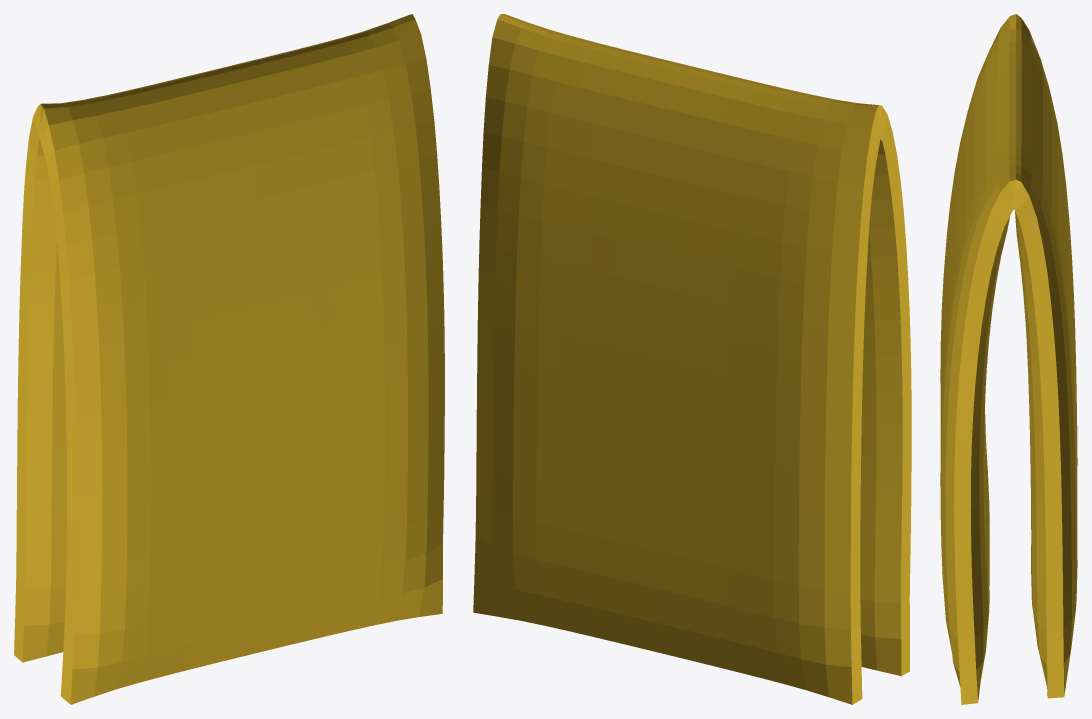
The model's file is Hanging Mat.fbx.
The picture shows the model from 3 angles, left to right: view 1: azimuth 30°, elevation 25°; view 2: azimuth 150°, elevation 25°; view 3: azimuth 270°, elevation 25°; orthographic projection. The views are drawn at different scales.
Parts seen in each view (by area): view 1: Node 0; view 2: Node 0; view 3: Node 0.
Part boxes in pixels (x1,y1,x2,y2): Node 0: (14,14,444,704); Node 0: (473,14,911,704); Node 0: (940,14,1077,704).
Size of the model in its own units: 0.2059 by 0.8719 by 0.5917.
